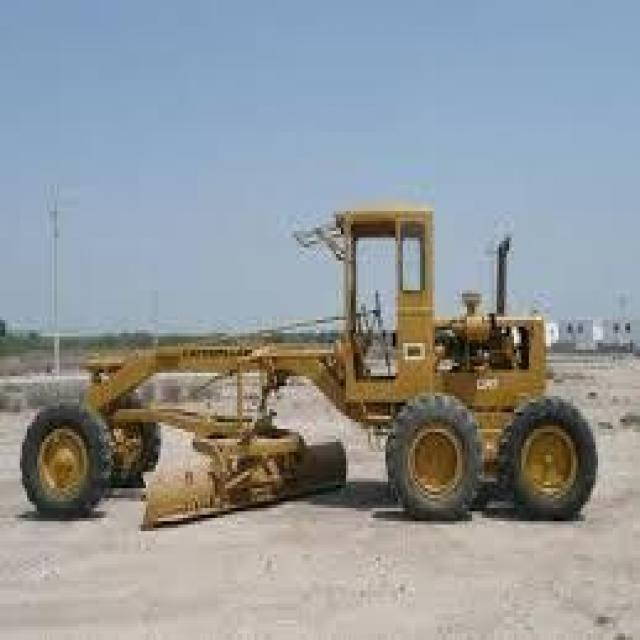Grader: (32, 165, 610, 554)
